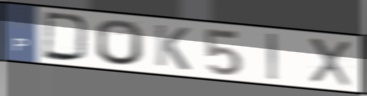5: (203, 26, 246, 77)
D: (41, 10, 92, 64)
I: (266, 31, 279, 82)
K: (153, 22, 192, 73)
O: (94, 18, 146, 67)
X: (306, 36, 354, 88)
